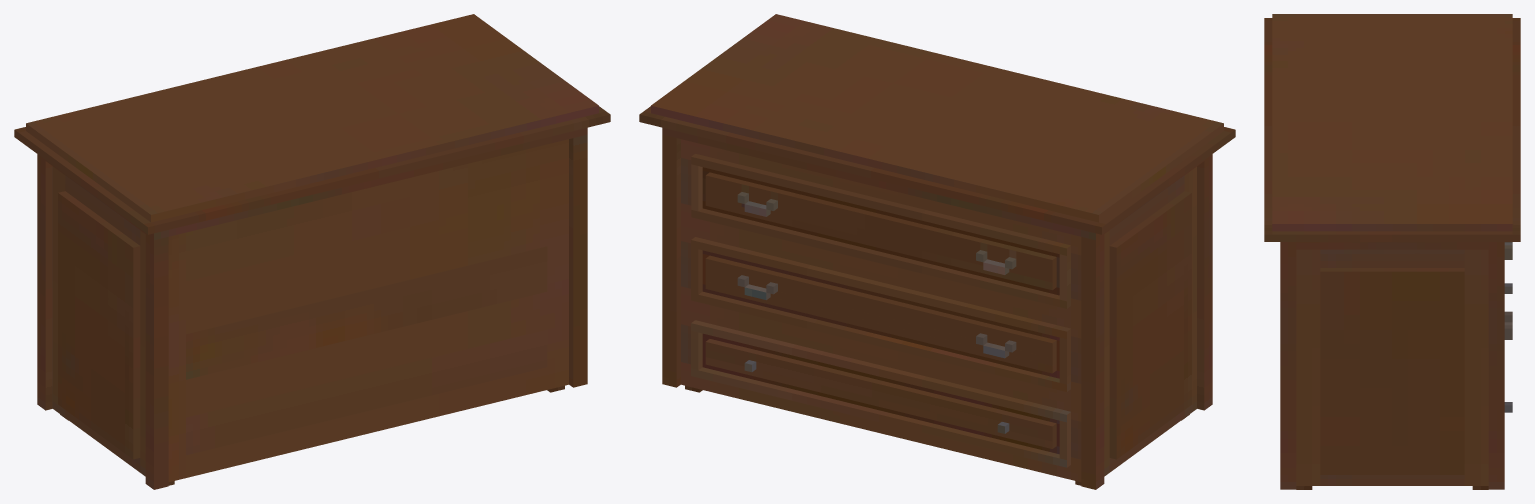
The model's file is cabinet-1.glb.
The picture shows the model from 3 angles, left to right: view 1: azimuth 30°, elevation 25°; view 2: azimuth 150°, elevation 25°; view 3: azimuth 270°, elevation 25°; orthographic projection. The views are drawn at different scales.
Visible parts, largest first — view 1: Cabinet_1-Local; view 2: Cabinet_1-Local; view 3: Cabinet_1-Local.
Boxes of the visible parts, box(x1,y1,x2,y2) form: Cabinet_1-Local: box(14, 14, 610, 489); Cabinet_1-Local: box(639, 14, 1235, 489); Cabinet_1-Local: box(1264, 14, 1520, 489).
Size of the model in its own units: 4 by 2.37 by 2.
4 materials, 4 textured.
